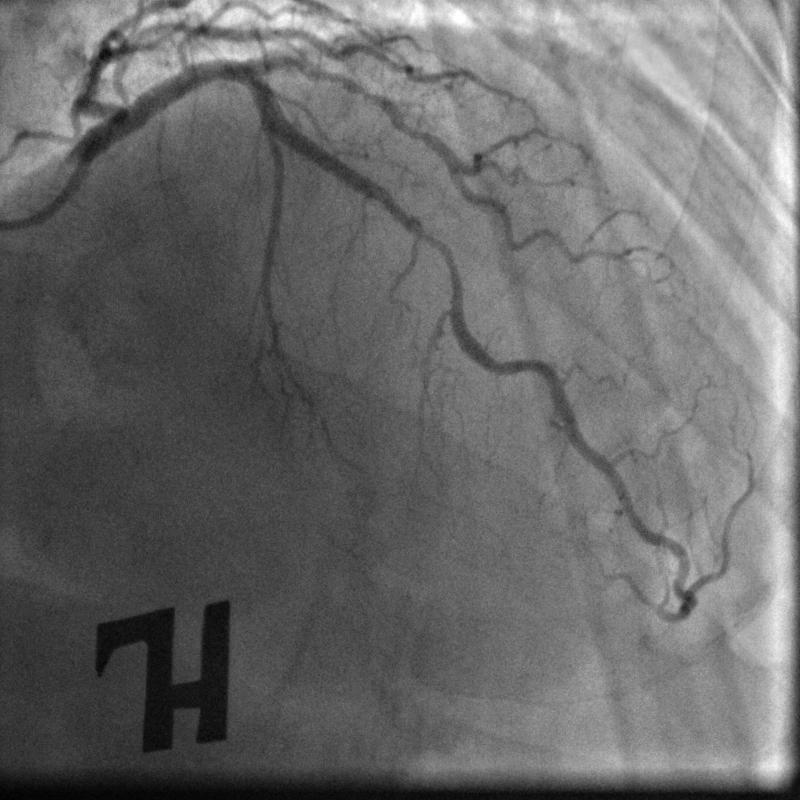Stenosis: (418, 222, 464, 302)
